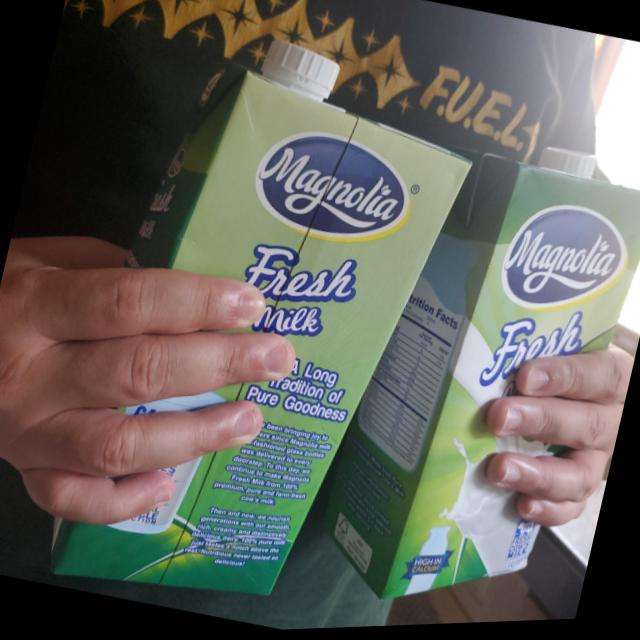milk: (40, 15, 489, 639), (311, 115, 640, 631)
